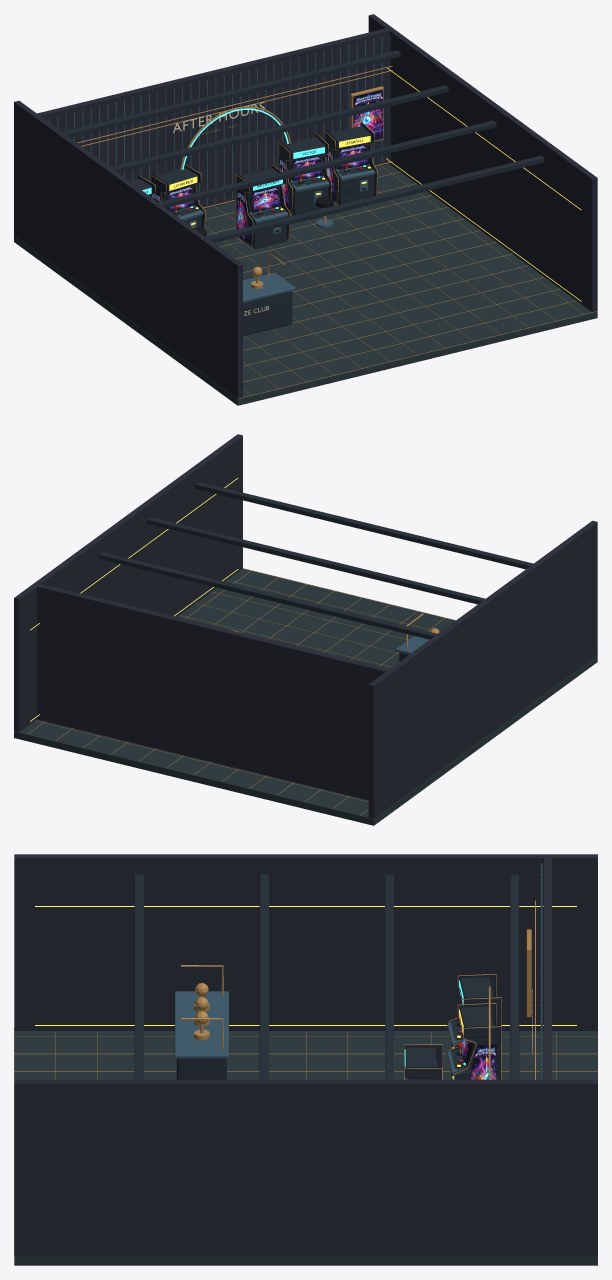
File: arcade-premium.glb
3 views of the same model, one above another, from view 1: azimuth 30°, elevation 25°; view 2: azimuth 150°, elevation 25°; view 3: azimuth 270°, elevation 25° (orthographic). The views are drawn at different scales.
Parts seen in each view (by area): view 1: Arcade terrazzo floor, Side acoustic wall, Side acoustic wall.001, Back acoustic wall, Overhead metal beam, Overhead metal beam.002, Overhead metal beam.003, Overhead metal beam.001, Prize counter cabinet, Generated illustrated wall art.001, Counter marble top, Cabinet lower case.004 (+7 smaller); view 2: Back acoustic wall, Side acoustic wall, Arcade terrazzo floor, Side acoustic wall.001, Overhead metal beam.001, Overhead metal beam.002, Overhead metal beam.003; view 3: Side acoustic wall.001, Side acoustic wall, Arcade terrazzo floor, Back acoustic wall, Counter marble top, Overhead metal beam, Overhead metal beam.002, Overhead metal beam.003, Overhead metal beam.001, Prize counter cabinet, Marquee top housing, Marquee top housing.001 (+4 smaller).
Part boxes in pixels (left/top/right/bottom): Arcade terrazzo floor: left=14, top=163, right=597, bottom=405; Side acoustic wall: left=14, top=100, right=242, bottom=398; Side acoustic wall.001: left=368, top=14, right=597, bottom=311; Back acoustic wall: left=32, top=27, right=393, bottom=248; Overhead metal beam: left=62, top=50, right=400, bottom=137; Overhead metal beam.002: left=158, top=120, right=496, bottom=207; Overhead metal beam.003: left=206, top=155, right=544, bottom=242; Overhead metal beam.001: left=110, top=85, right=448, bottom=172; Prize counter cabinet: left=243, top=291, right=292, bottom=335; Generated illustrated wall art.001: left=353, top=89, right=383, bottom=140; Counter marble top: left=243, top=272, right=295, bottom=302; Cabinet lower case.004: left=332, top=174, right=373, bottom=204; Back acoustic wall: left=33, top=583, right=394, bottom=804; Side acoustic wall: left=368, top=520, right=597, bottom=818; Arcade terrazzo floor: left=14, top=569, right=597, bottom=825; Side acoustic wall.001: left=14, top=434, right=242, bottom=732; Overhead metal beam.001: left=99, top=552, right=437, bottom=639; Overhead metal beam.002: left=147, top=517, right=485, bottom=604; Overhead metal beam.003: left=195, top=482, right=533, bottom=569; Side acoustic wall.001: left=14, top=1079, right=597, bottom=1256; Side acoustic wall: left=14, top=854, right=597, bottom=1030; Arcade terrazzo floor: left=14, top=1031, right=597, bottom=1265; Back acoustic wall: left=543, top=854, right=551, bottom=1256; Counter marble top: left=174, top=991, right=228, bottom=1058; Overhead metal beam: left=510, top=874, right=519, bottom=1079; Overhead metal beam.002: left=259, top=874, right=268, bottom=1079; Overhead metal beam.003: left=134, top=874, right=143, bottom=1079; Overhead metal beam.001: left=385, top=874, right=393, bottom=1079; Prize counter cabinet: left=176, top=1058, right=226, bottom=1079; Marquee top housing: left=405, top=1047, right=435, bottom=1078; Marquee top housing.001: left=459, top=1006, right=493, bottom=1037.
Size of the model in its own units: 13 by 4.84 by 14.
11 materials, 1 textured.
